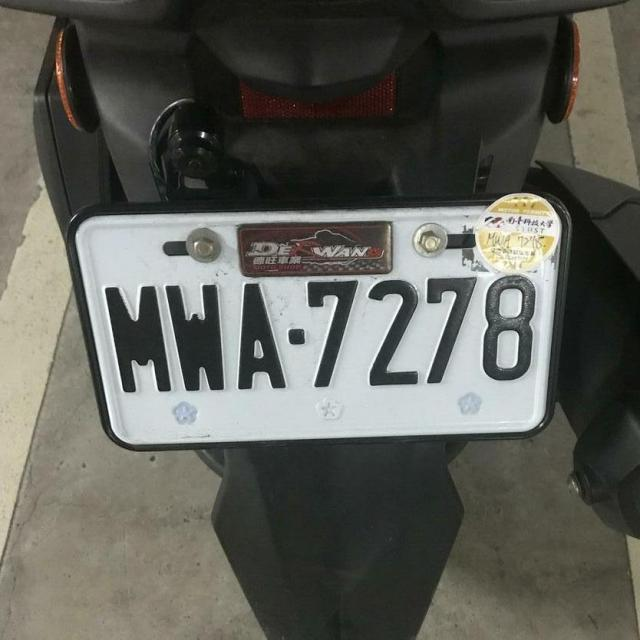W: (74, 188, 558, 459)
